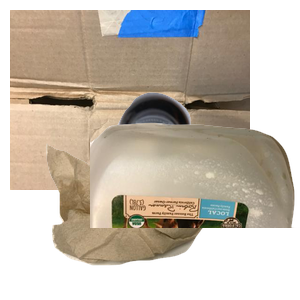cardboard: (10, 10, 250, 190)
glass: (115, 90, 300, 270)
plastic: (90, 120, 300, 300)
trash: (44, 136, 277, 300)
